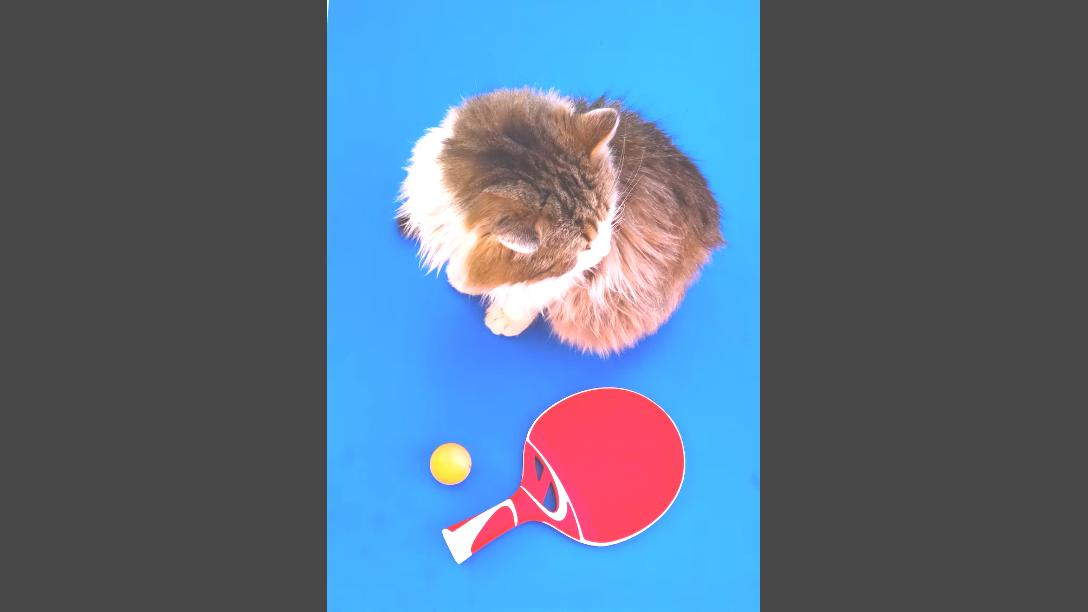Table-Tennis-Ball: (430, 444, 472, 484)
